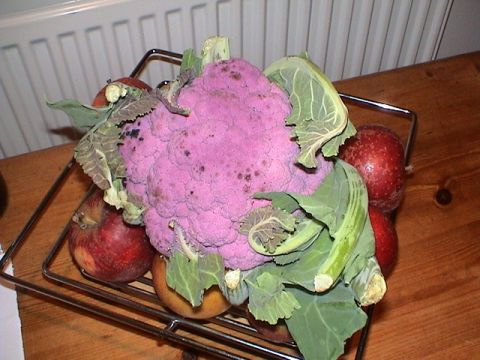cauliflower: (119, 56, 335, 269)
